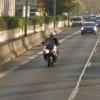Motorcycle: (36, 28, 67, 73)
